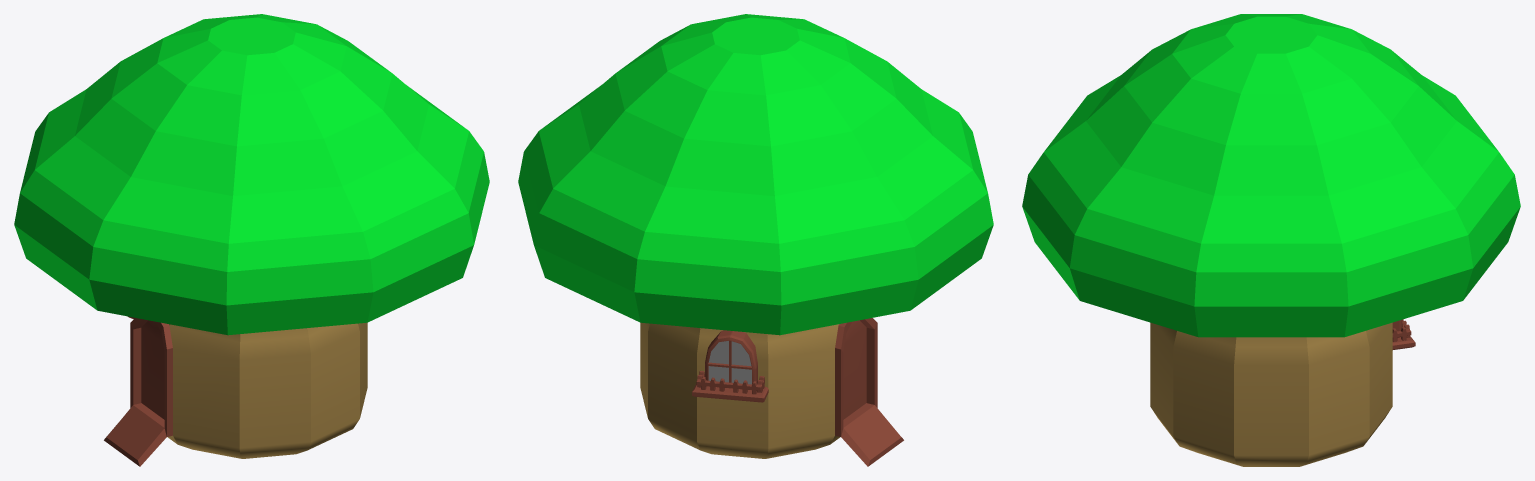
Rendered from Mush.fbx.
The picture shows the model from 3 angles, left to right: view 1: azimuth 30°, elevation 25°; view 2: azimuth 150°, elevation 25°; view 3: azimuth 270°, elevation 25°; orthographic projection. The views are drawn at different scales.
Parts seen in each view (by area): view 1: polySurface81; view 2: polySurface81, polySurface82, polySurface83, polySurface84; view 3: polySurface81.
Boxes of the visible parts, x1,y1,x2,y2 form: polySurface81: [14, 14, 489, 466]; polySurface81: [518, 14, 993, 466]; polySurface82: [705, 330, 757, 384]; polySurface83: [692, 384, 768, 402]; polySurface84: [696, 371, 764, 394]; polySurface81: [1022, 14, 1520, 466].
Bounding box in the file's own units: 7.34 × 6.75 × 7.72.
